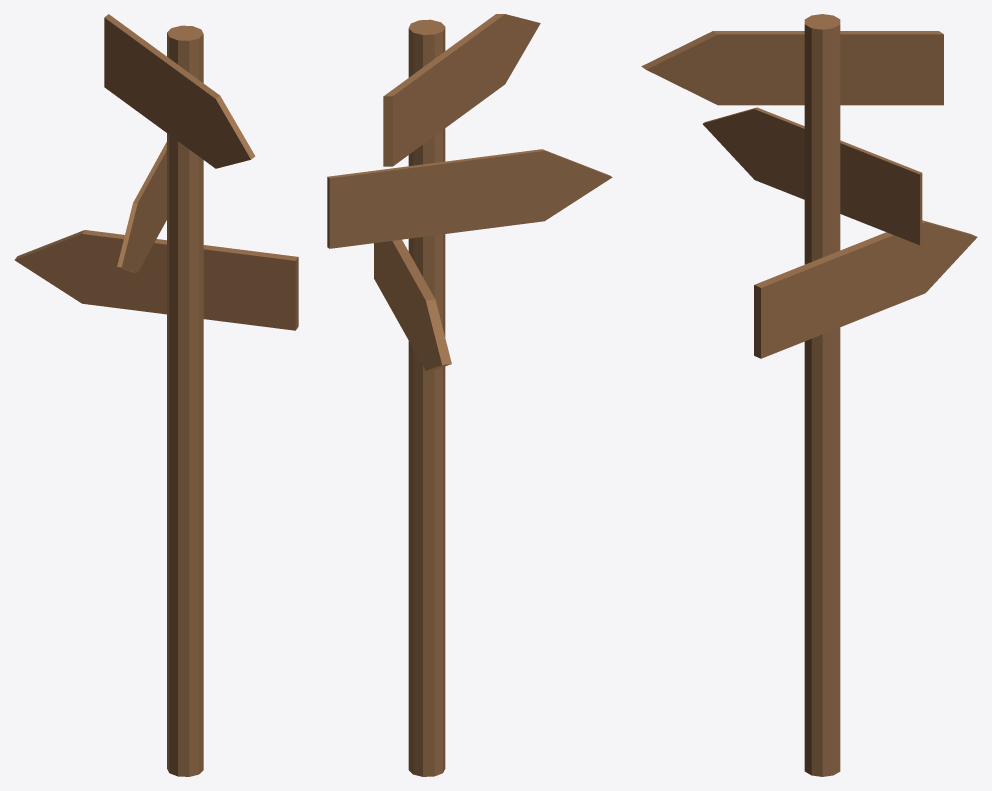
Rendered from Sighnpost_1.fbx.
3 renders of one model, left to right at view 1: azimuth 30°, elevation 25°; view 2: azimuth 150°, elevation 25°; view 3: azimuth 270°, elevation 25°, orthographic.
Parts seen in each view (by area): view 1: Sighnpost_mesh; view 2: Sighnpost_mesh; view 3: Sighnpost_mesh.
Boxes of the visible parts, x1,y1,x2,y2 form: Sighnpost_mesh: [14, 14, 298, 776]; Sighnpost_mesh: [327, 14, 612, 776]; Sighnpost_mesh: [641, 14, 977, 776].
Bounding box in the file's own units: 102 × 342 × 139.
